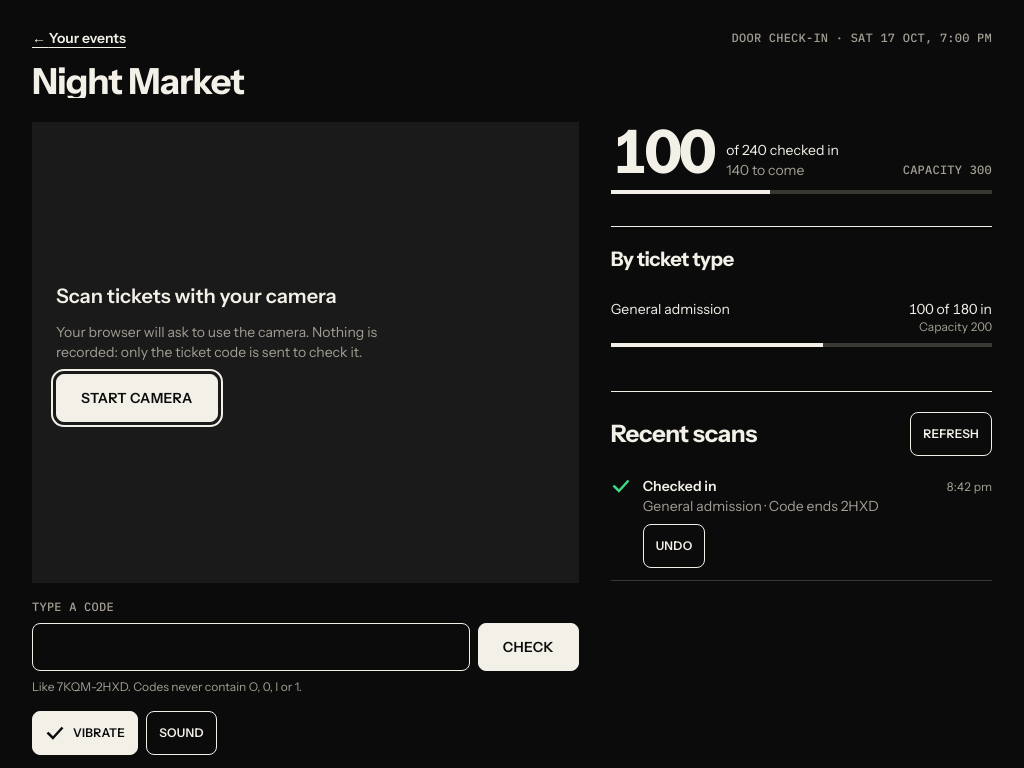
camera problems › NotFoundError: No camera found, focused and announced
The width and height of the screenshot is (1024, 768).
Click the button "Start camera". click: (137, 398)
box: [56,374,218,422]
Wait 40 ms
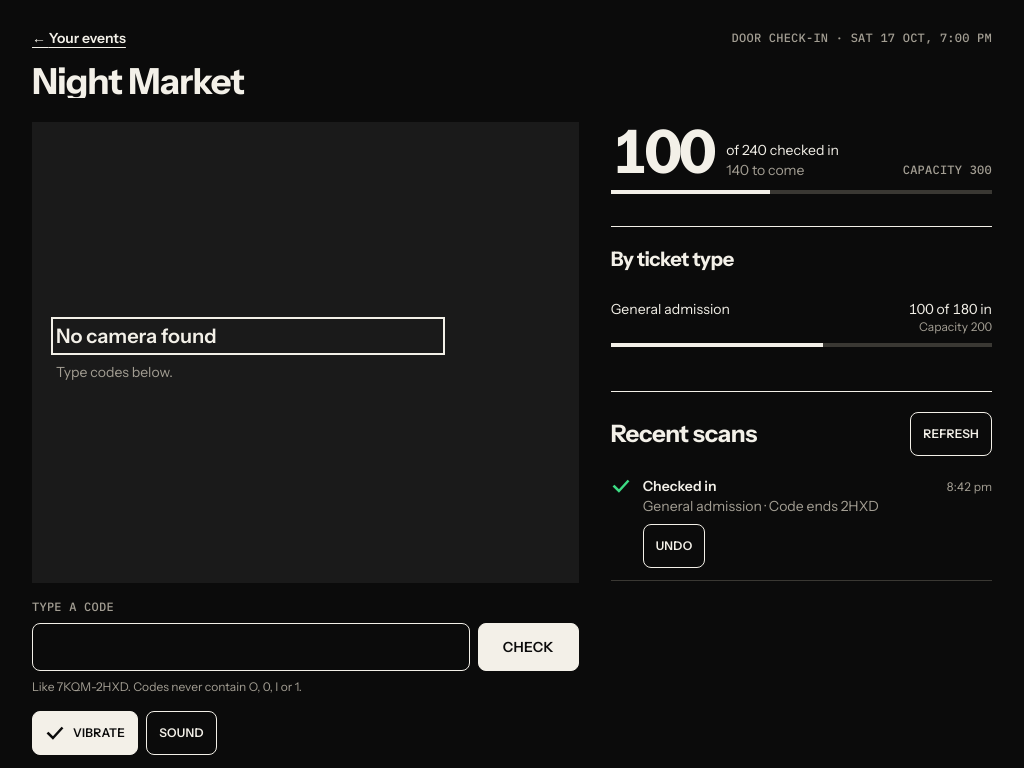
Check: the field labelled "Type a code" is enabled, box [32,623,470,671]
Check: the button "Start camera" is gone
